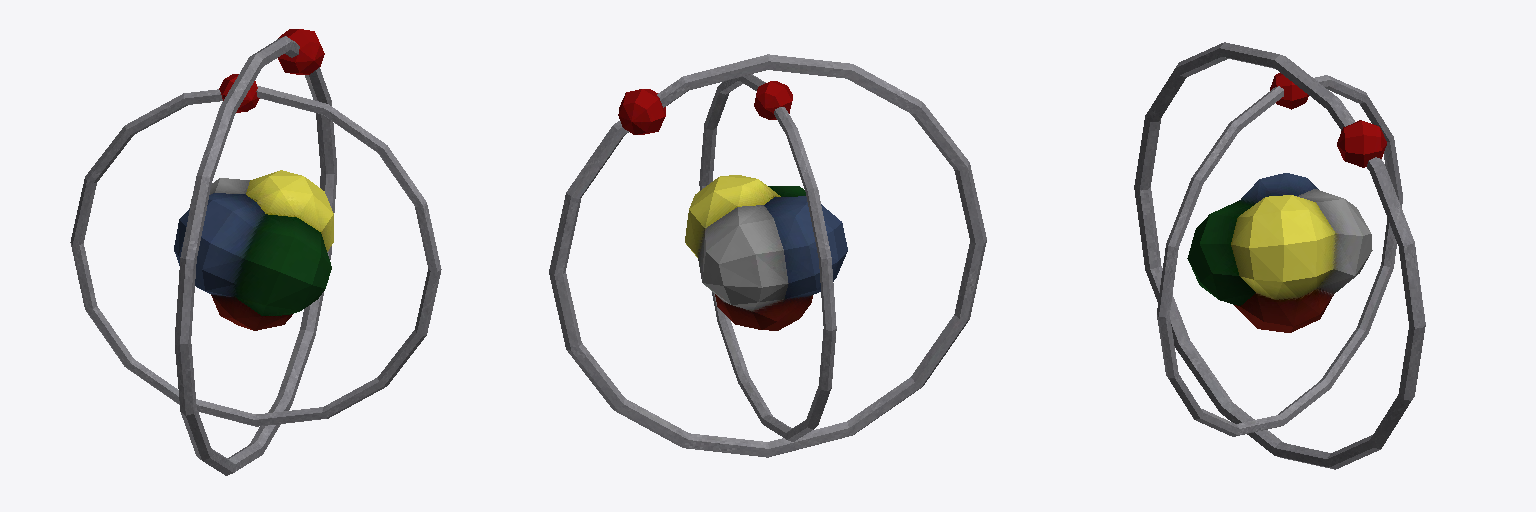
3 views of the same model, side by side, from view 1: azimuth 30°, elevation 25°; view 2: azimuth 150°, elevation 25°; view 3: azimuth 270°, elevation 25° (orthographic).
Parts seen in each view (by area): view 1: unwrapped2, Object09, Object10, Object12, Object11; view 2: Object09, unwrapped2, Object10, Object12, Object11; view 3: unwrapped2, Object09, Object10, Object12, Object11.
Boxes of the visible parts, x1,y1,x2,y2 form: unwrapped2: [174, 170, 333, 330]; Object09: [175, 36, 336, 475]; Object10: [70, 86, 441, 426]; Object12: [278, 29, 324, 74]; Object11: [219, 74, 259, 112]; Object09: [549, 54, 986, 457]; unwrapped2: [685, 175, 847, 330]; Object10: [699, 74, 836, 441]; Object12: [618, 89, 665, 134]; Object11: [754, 81, 792, 119]; unwrapped2: [1187, 173, 1372, 332]; Object09: [1134, 42, 1425, 469]; Object10: [1157, 75, 1402, 436]; Object12: [1337, 120, 1386, 167]; Object11: [1270, 73, 1308, 109].
Bounding box in the file's own units: 27.27 × 35.32 × 23.15.
1 materials, 1 textured.